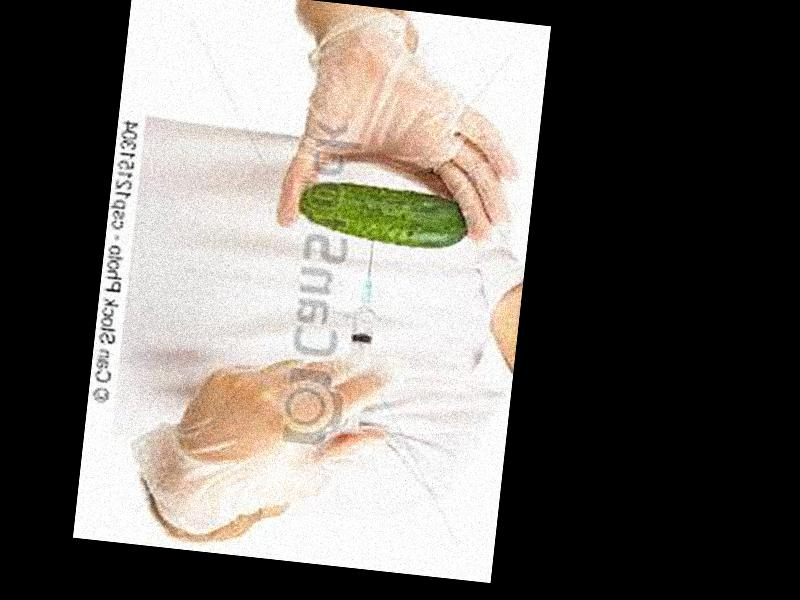Cucumber: (293, 175, 471, 250)
